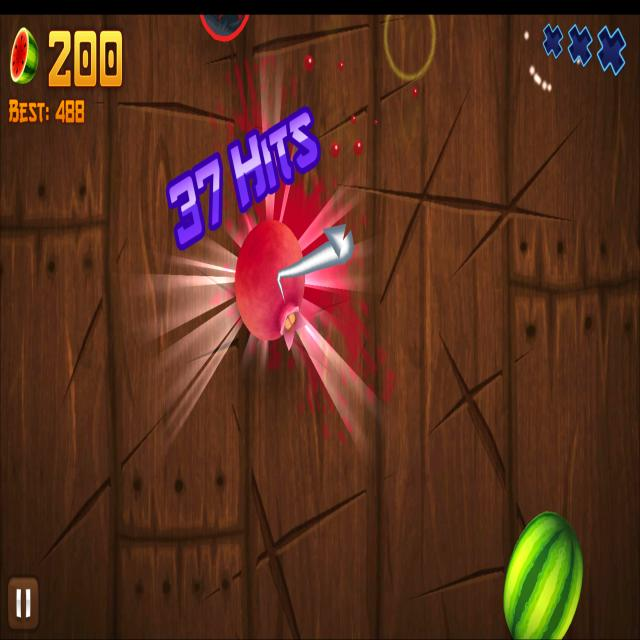bomb: (201, 15, 251, 42)
fruit: (504, 511, 584, 640), (234, 220, 306, 342)
